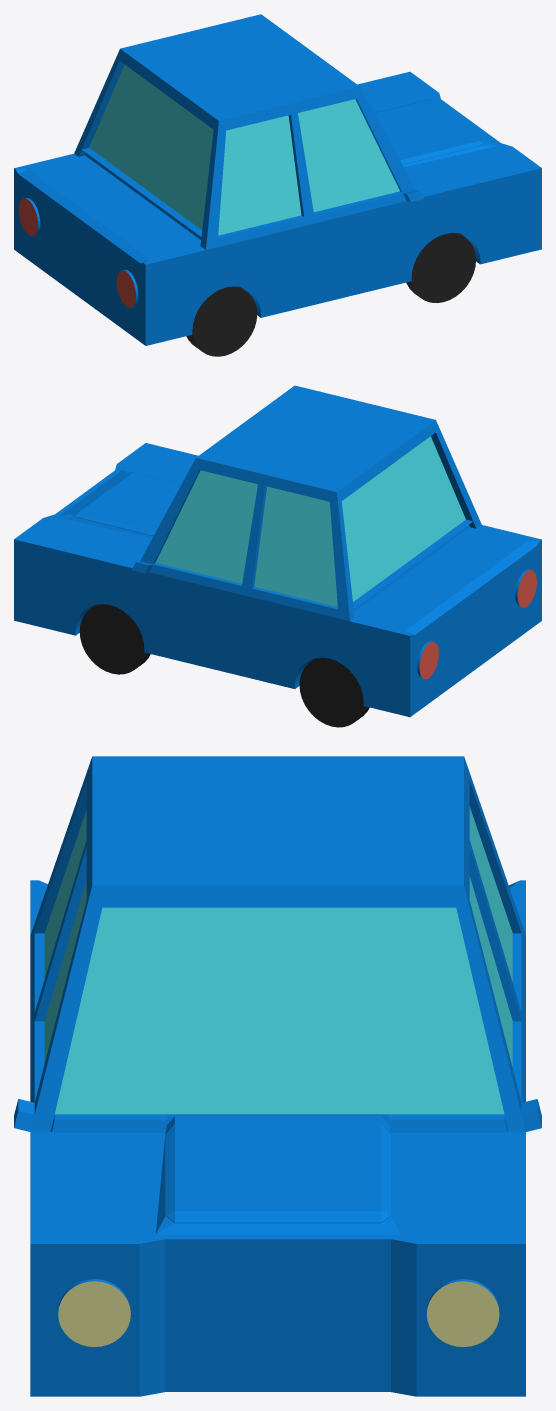
Rendered from BlueCar.glb.
The picture shows the model from 3 angles, top to bottom: view 1: azimuth 30°, elevation 25°; view 2: azimuth 150°, elevation 25°; view 3: azimuth 270°, elevation 25°; orthographic projection. The views are drawn at different scales.
Visible parts, largest first — view 1: GreenCar.002; view 2: GreenCar.002; view 3: GreenCar.002.
Part boxes in pixels (x1,y1,x2,y2): GreenCar.002: (14, 14, 541, 356); GreenCar.002: (14, 385, 541, 727); GreenCar.002: (14, 756, 541, 1396).
Size of the model in its own units: 7.34 by 3.89 by 4.45.
